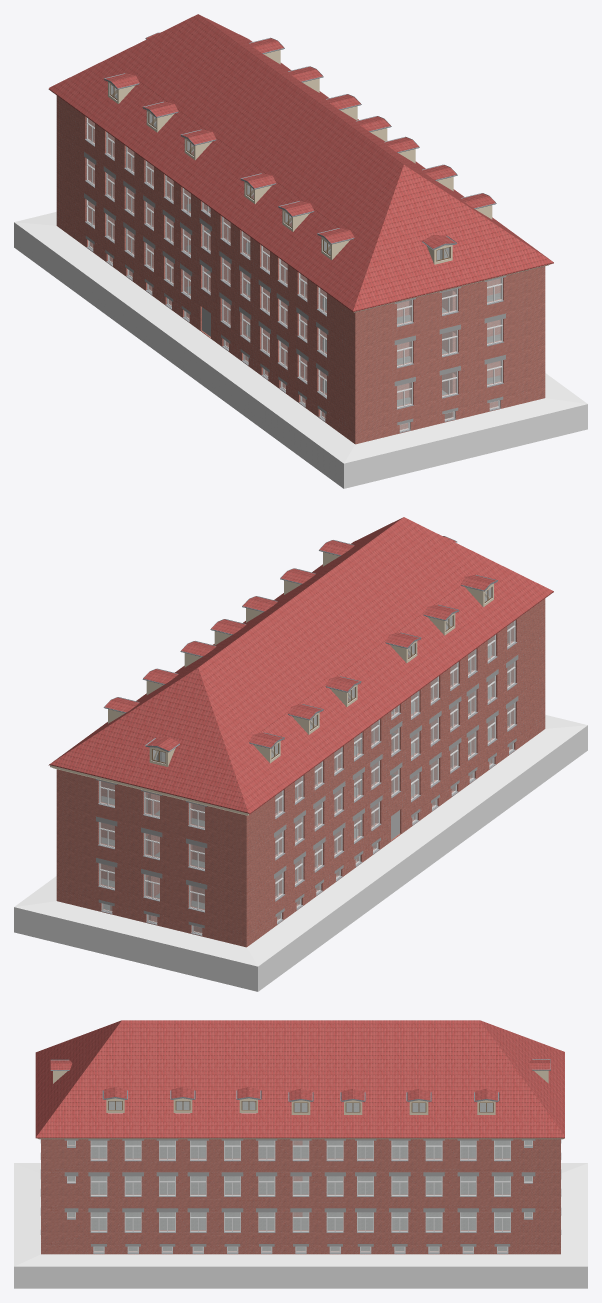
Rendered from Manhaus.glb.
The picture shows the model from 3 angles, top to bottom: view 1: azimuth 30°, elevation 25°; view 2: azimuth 150°, elevation 25°; view 3: azimuth 270°, elevation 25°; orthographic projection. The views are drawn at different scales.
Parts seen in each view (by area): view 1: VisualSceneNode1.582, VisualSceneNode1.1185, VisualSceneNode1, VisualSceneNode1.042, VisualSceneNode1.083, VisualSceneNode1.769, VisualSceneNode1.071, VisualSceneNode1.771, VisualSceneNode1.029, VisualSceneNode1.773, VisualSceneNode1.112, VisualSceneNode1.125 (+11 smaller); view 2: VisualSceneNode1.582, VisualSceneNode1.1185, VisualSceneNode1.002, VisualSceneNode1.044, VisualSceneNode1.085, VisualSceneNode1.769, VisualSceneNode1.771, VisualSceneNode1.029, VisualSceneNode1.071, VisualSceneNode1.773, VisualSceneNode1.112, VisualSceneNode1.127 (+12 smaller); view 3: VisualSceneNode1.582, VisualSceneNode1.1185, VisualSceneNode1.043, VisualSceneNode1.001, VisualSceneNode1.084, VisualSceneNode1.126, VisualSceneNode1.041, VisualSceneNode1.082, VisualSceneNode1.040, VisualSceneNode1.143, VisualSceneNode1.123, VisualSceneNode1.778 (+46 smaller).
Boxes of the visible parts, x1,y1,x2,y2 form: VisualSceneNode1.582: (48, 14, 553, 312); VisualSceneNode1.1185: (14, 212, 587, 488); VisualSceneNode1: (352, 345, 545, 432); VisualSceneNode1.042: (352, 304, 545, 391); VisualSceneNode1.083: (352, 266, 545, 350); VisualSceneNode1.769: (59, 175, 195, 314); VisualSceneNode1.071: (216, 249, 352, 388); VisualSceneNode1.771: (59, 134, 195, 273); VisualSceneNode1.029: (216, 290, 352, 429); VisualSceneNode1.773: (59, 98, 195, 232); VisualSceneNode1.112: (216, 213, 352, 347); VisualSceneNode1.125: (352, 386, 545, 444); VisualSceneNode1.582: (48, 517, 553, 814); VisualSceneNode1.1185: (14, 715, 587, 991); VisualSceneNode1.002: (62, 849, 249, 935); VisualSceneNode1.044: (62, 808, 249, 894); VisualSceneNode1.085: (62, 770, 249, 853); VisualSceneNode1.769: (249, 793, 385, 932); VisualSceneNode1.771: (249, 752, 385, 891); VisualSceneNode1.029: (406, 678, 542, 817); VisualSceneNode1.071: (406, 637, 542, 776); VisualSceneNode1.773: (249, 716, 385, 850); VisualSceneNode1.112: (406, 601, 542, 735); VisualSceneNode1.127: (62, 890, 241, 945); VisualSceneNode1.582: (35, 1020, 564, 1138); VisualSceneNode1.1185: (14, 1163, 587, 1288); VisualSceneNode1.043: (46, 1172, 560, 1208); VisualSceneNode1.001: (46, 1208, 560, 1243); VisualSceneNode1.084: (46, 1139, 560, 1172); VisualSceneNode1.126: (46, 1244, 560, 1254); VisualSceneNode1.041: (68, 1176, 531, 1209); VisualSceneNode1.082: (68, 1140, 531, 1173); VisualSceneNode1.040: (68, 1212, 531, 1230); VisualSceneNode1.143: (37, 1138, 564, 1139); VisualSceneNode1.123: (108, 1101, 493, 1111); VisualSceneNode1.778: (94, 1247, 506, 1251).
Size of the model in its own units: 21.7 by 21.17 by 50.8.
14 materials, 8 textured.
